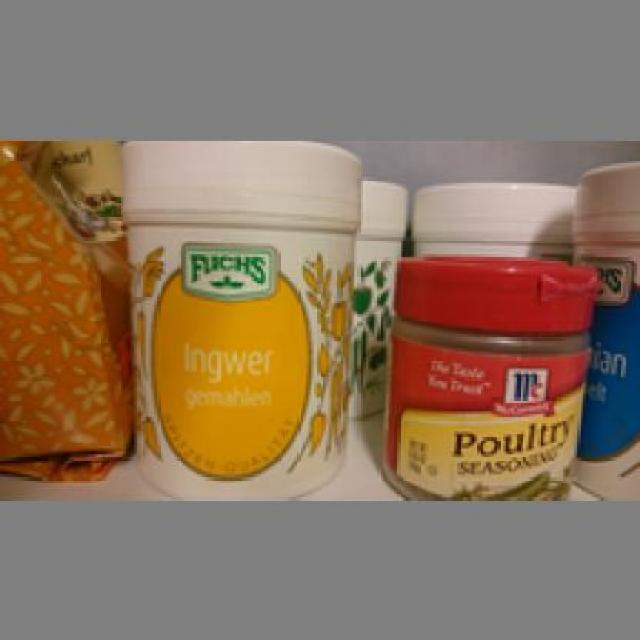Spices: (120, 137, 357, 494), (380, 252, 597, 498)
